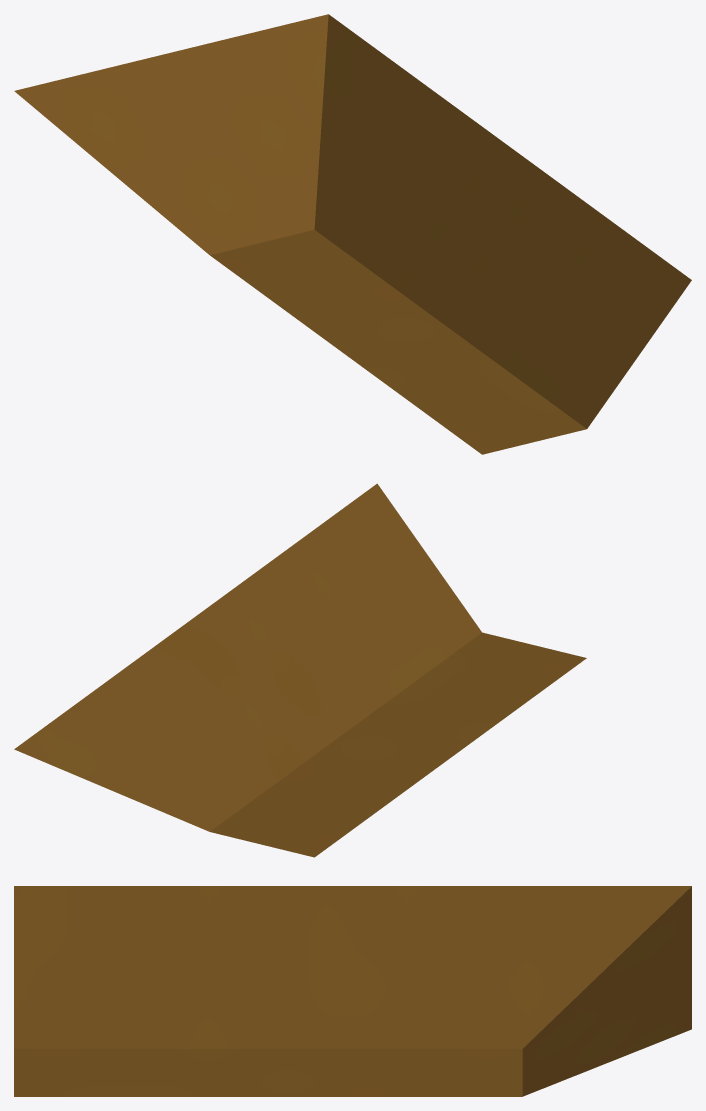
Rendered from trench1.glb.
3 renders of one model, top to bottom at view 1: azimuth 30°, elevation 25°; view 2: azimuth 150°, elevation 25°; view 3: azimuth 270°, elevation 25°, orthographic. The views are drawn at different scales.
Parts seen in each view (by area): view 1: Trench1; view 2: Trench1; view 3: Trench1.
Part boxes in pixels (x1,y1,x2,y2): Trench1: (14, 14, 691, 454); Trench1: (14, 483, 586, 857); Trench1: (14, 886, 691, 1096).
Bounding box in the file's own units: 0.6667 × 0.25 × 1.33.
1 material, 1 textured.
